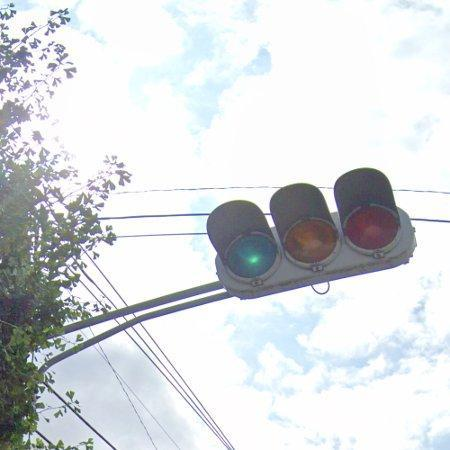traffic lights: (204, 166, 426, 297)
